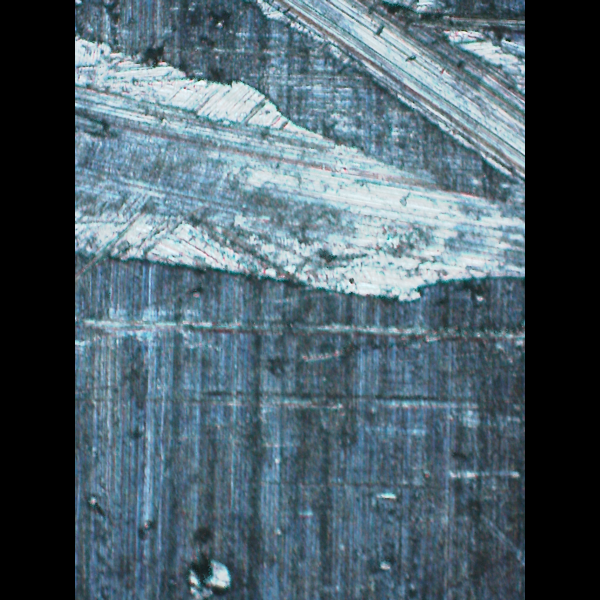d: (75, 0, 522, 315), (178, 529, 241, 599)
